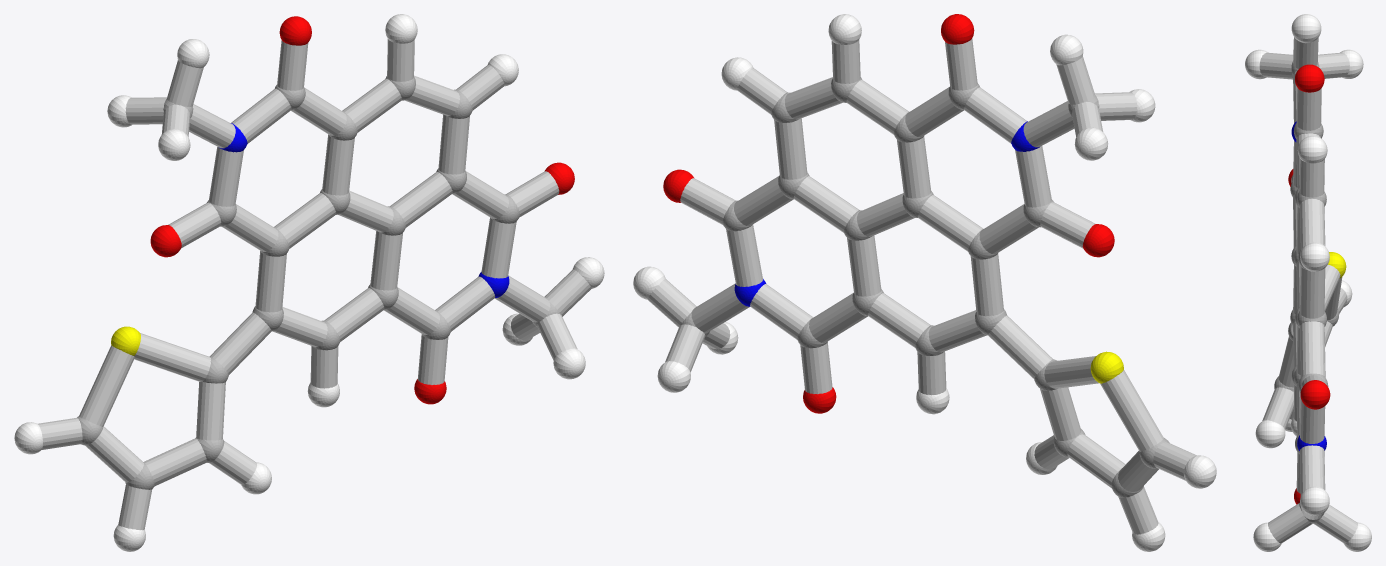
The model's file is Dimethyl_Naphthalene_Dicarboximide_Phi_5_Theta_200_Thiophene.glb.
3 views of the same model, side by side, from view 1: azimuth 30°, elevation 25°; view 2: azimuth 150°, elevation 25°; view 3: azimuth 270°, elevation 25° (orthographic). The views are drawn at different scales.
Parts seen in each view (by area): view 1: grp14119, grp7241, grp1, grp12309, grp11585; view 2: grp14119, grp7241, grp1, grp12309, grp13757, grp11585; view 3: grp14119, grp7241, grp1, grp12309, grp13757, grp11585.
Boxes of the visible parts, x1,y1,x2,y2 form: grp14119: [38, 39, 591, 530]; grp7241: [14, 14, 604, 551]; grp1: [77, 76, 560, 489]; grp12309: [150, 16, 574, 404]; grp11585: [219, 123, 509, 297]; grp14119: [647, 38, 1196, 534]; grp7241: [633, 14, 1216, 551]; grp1: [681, 77, 1169, 497]; grp12309: [663, 14, 1114, 413]; grp13757: [1090, 351, 1123, 383]; grp11585: [734, 121, 1039, 306]; grp14119: [1259, 37, 1357, 543]; grp7241: [1245, 14, 1371, 551]; grp1: [1274, 62, 1338, 523]; grp12309: [1288, 64, 1330, 504]; grp13757: [1328, 252, 1346, 278]; grp11585: [1291, 121, 1326, 450].
Size of the model in its own units: 12.26 by 9.94 by 2.56.
